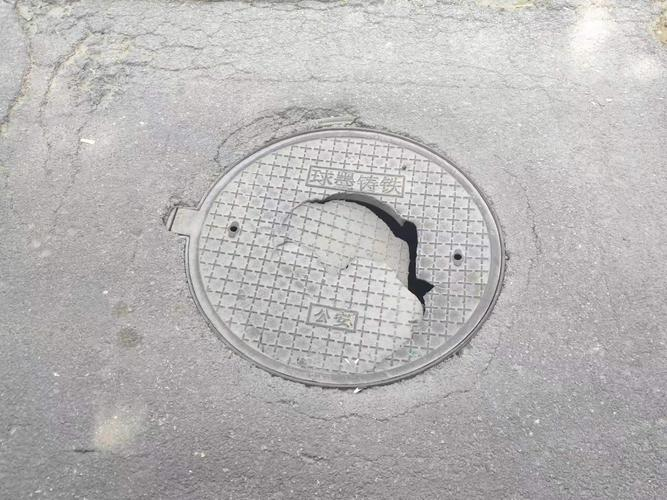broke: (173, 117, 529, 409)
